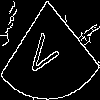V: (24, 25, 64, 81)
